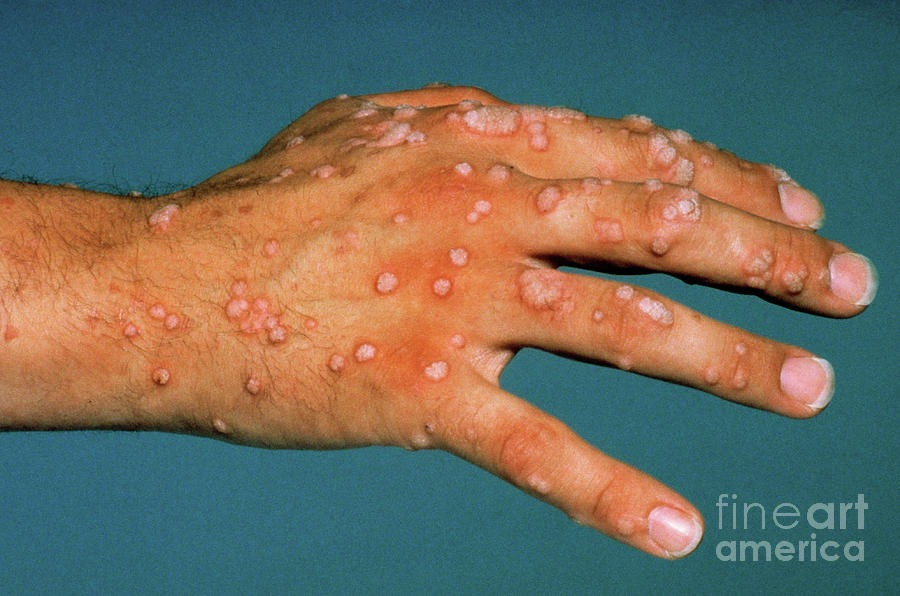Warts: (4, 71, 833, 570)
